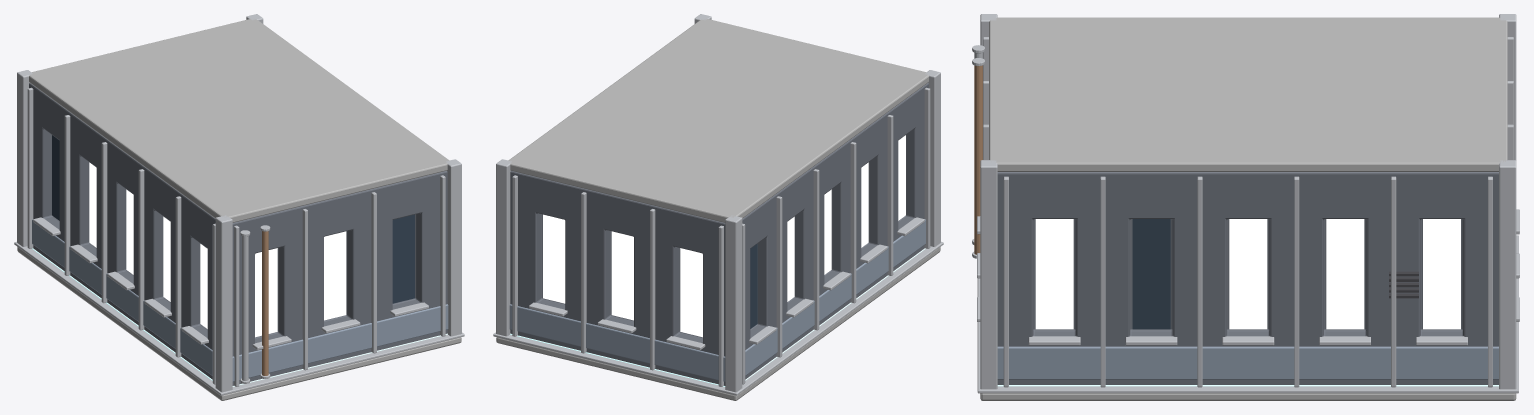
File: office_4x6.glb
The picture shows the model from 3 angles, left to right: view 1: azimuth 30°, elevation 25°; view 2: azimuth 150°, elevation 25°; view 3: azimuth 270°, elevation 25°; orthographic projection. The views are drawn at different scales.
Visible parts, largest first — view 1: int_ceiling, ext_wall, ext_frames, ext_spandrel, int_columns, ext_panes_lit, int_slab_edge, int_slab, ext_panes_dark, ext_pipe0, ext_pipe1, int_grid; view 2: int_ceiling, ext_wall, ext_frames, ext_spandrel, ext_panes_lit, int_columns, int_slab_edge, int_slab, ext_panes_dark, int_grid; view 3: int_ceiling, ext_wall, ext_panes_lit, ext_spandrel, ext_frames, int_columns, int_slab_edge, ext_panes_dark, int_slab, ext_pipe1, int_grid, ext_vent.
Boxes of the visible parts, box(x1,y1,x2,y2) form: int_ceiling: box(29, 19, 449, 222); ext_wall: box(29, 83, 447, 385); ext_frames: box(27, 87, 445, 386); ext_spandrel: box(32, 219, 448, 381); int_columns: box(17, 14, 461, 392); ext_panes_lit: box(89, 162, 346, 337); int_slab_edge: box(14, 241, 464, 395); int_slab: box(17, 247, 461, 400); ext_panes_dark: box(52, 135, 414, 303); ext_pipe0: box(242, 236, 248, 380); ext_pipe1: box(262, 231, 268, 375); int_grid: box(32, 248, 447, 386); int_ceiling: box(508, 19, 928, 222); ext_wall: box(510, 83, 928, 385); ext_frames: box(512, 87, 930, 386); ext_spandrel: box(509, 219, 925, 381); ext_panes_lit: box(543, 135, 905, 337); int_columns: box(496, 14, 940, 392); int_slab_edge: box(493, 241, 943, 395); int_slab: box(496, 247, 940, 400); ext_panes_dark: box(750, 244, 757, 328); int_grid: box(510, 248, 925, 386); int_ceiling: box(989, 17, 1507, 171); ext_wall: box(997, 172, 1498, 384); ext_panes_lit: box(1035, 219, 1460, 329); ext_spandrel: box(997, 346, 1498, 379); ext_frames: box(977, 37, 1519, 387); int_columns: box(980, 14, 1516, 389); int_slab_edge: box(977, 235, 1518, 393); ext_panes_dark: box(1132, 219, 1170, 329); int_slab: box(980, 393, 1516, 400); ext_pipe1: box(974, 65, 982, 254); int_grid: box(997, 385, 1498, 386); ext_vent: box(1389, 271, 1418, 298).
Bounding box in the file's own units: 4.28 × 3 × 6.33.
